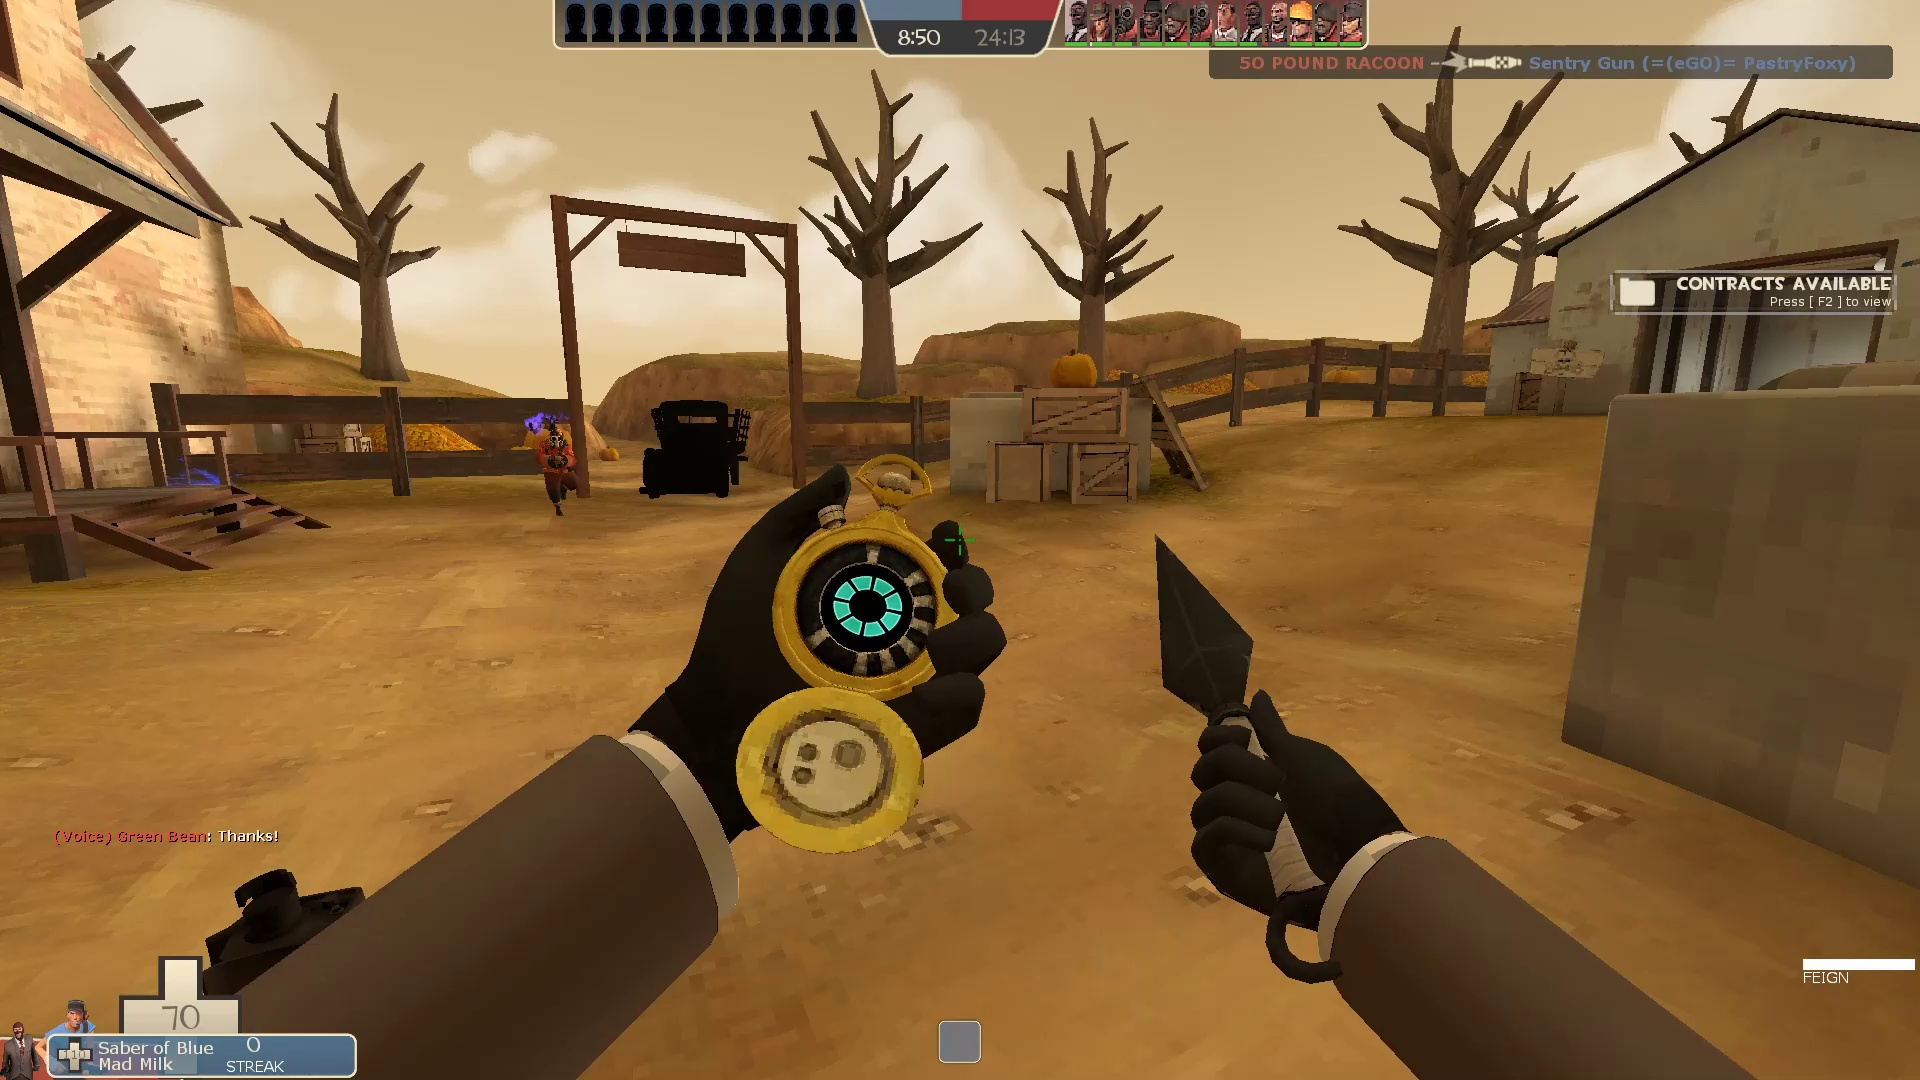red_pyro: (521, 411, 584, 520)
